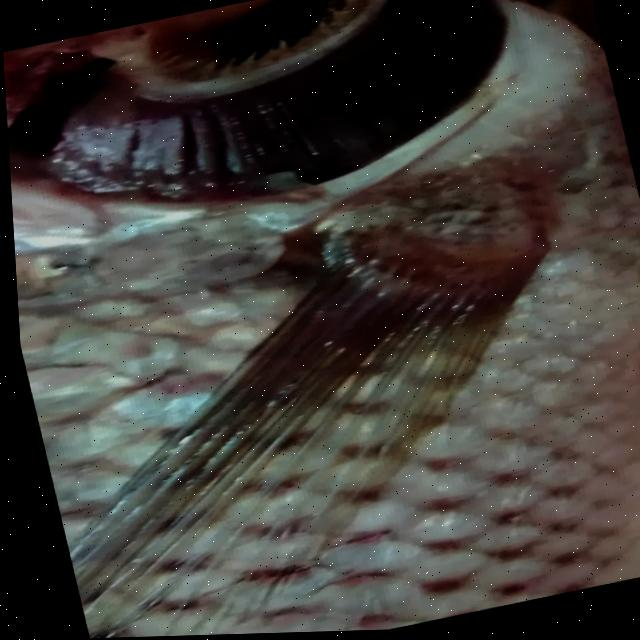Non-Fresh: (22, 0, 525, 242)
